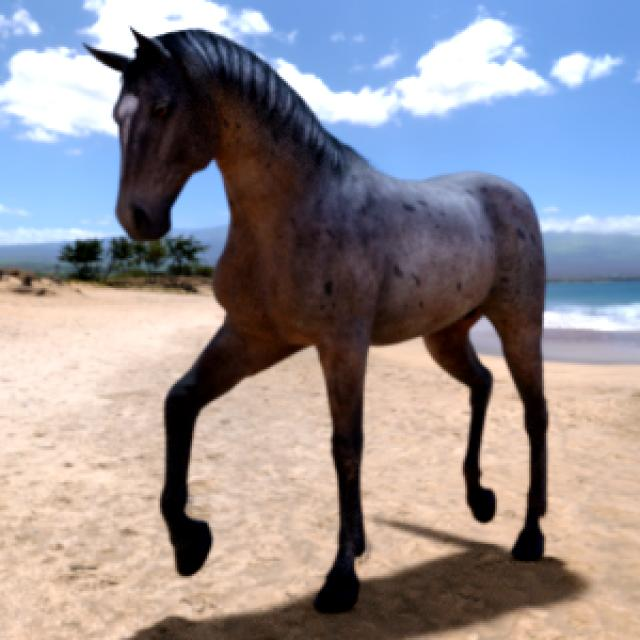horse: (89, 30, 545, 611)
